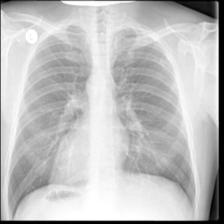tuberculosis: (7, 19, 199, 220)
